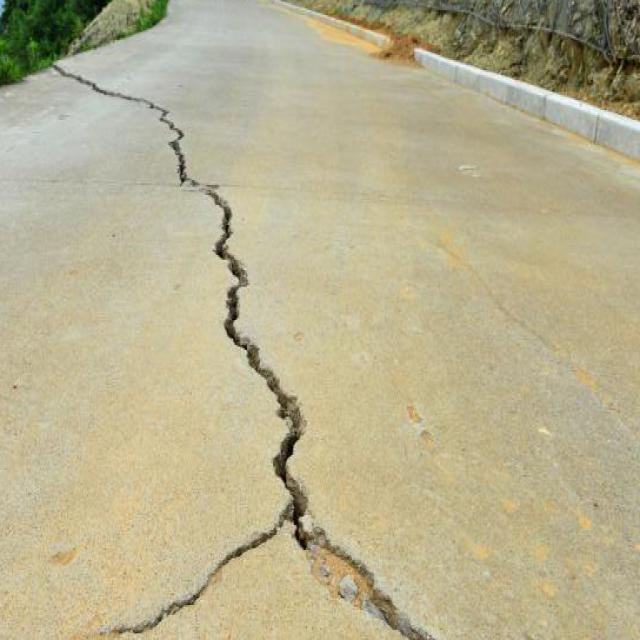Radial: (37, 60, 422, 640)
